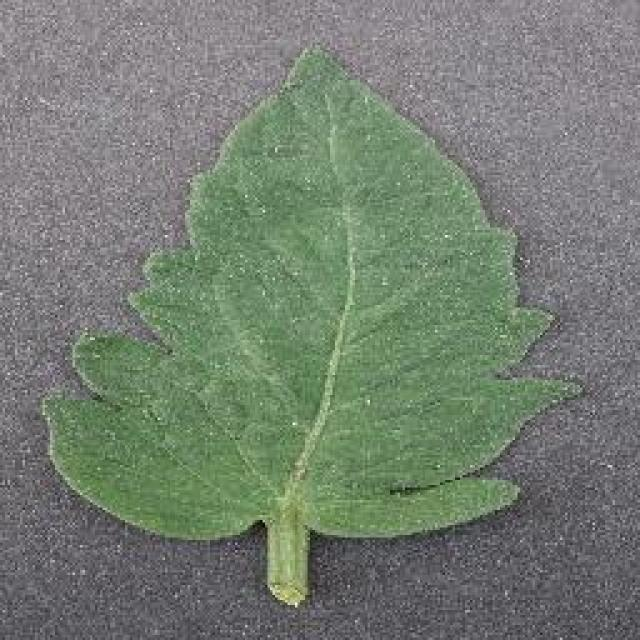Tomato healthy leaf: (44, 49, 568, 594)
